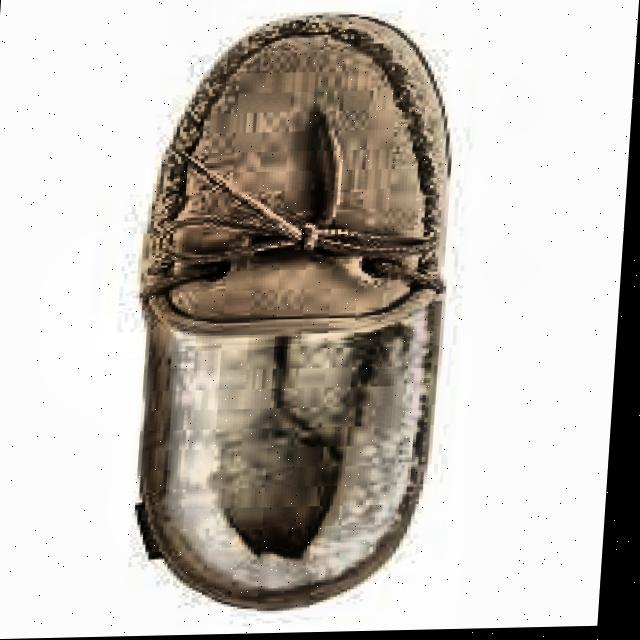shoes: (83, 1, 553, 621)
